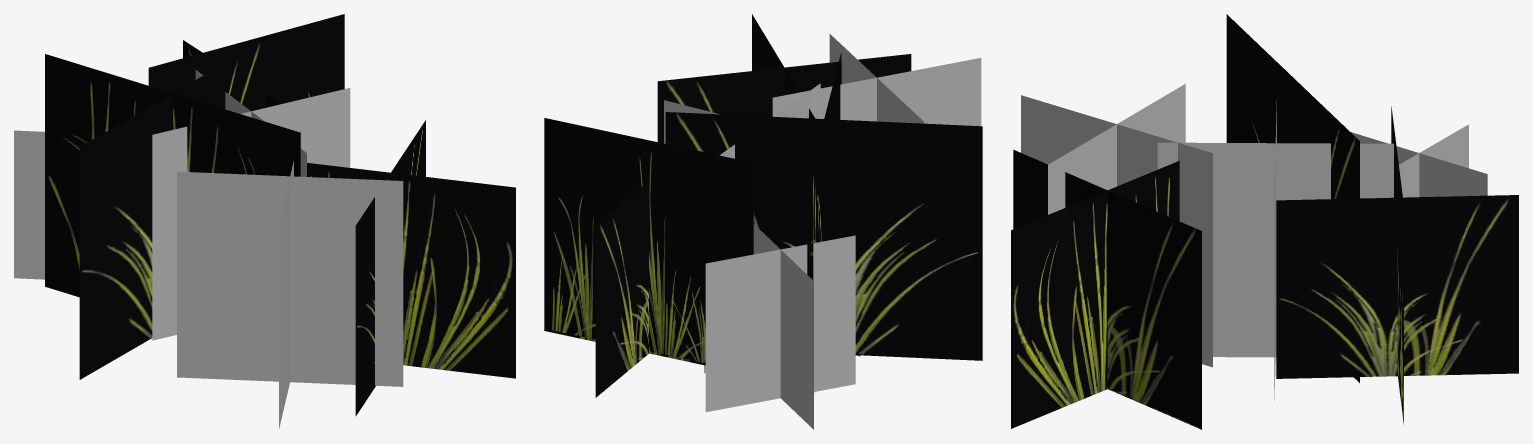
Rendered from grass_flower_patch6.fbx.
The picture shows the model from 3 angles, left to right: view 1: azimuth 30°, elevation 25°; view 2: azimuth 150°, elevation 25°; view 3: azimuth 270°, elevation 25°; orthographic projection. The views are drawn at different scales.
Visible parts, largest first — view 1: Plane.001, Plane.005; view 2: Plane.001, Plane.005; view 3: Plane.001, Plane.005.
Boxes of the visible parts, x1,y1,x2,y2 form: Plane.001: (45,14,515,416); Plane.005: (14,70,403,428); Plane.001: (544,14,982,397); Plane.005: (664,34,981,429); Plane.001: (1011,14,1518,429); Plane.005: (1021,84,1487,400).
Size of the model in its own units: 31.22 by 20.15 by 37.69.
